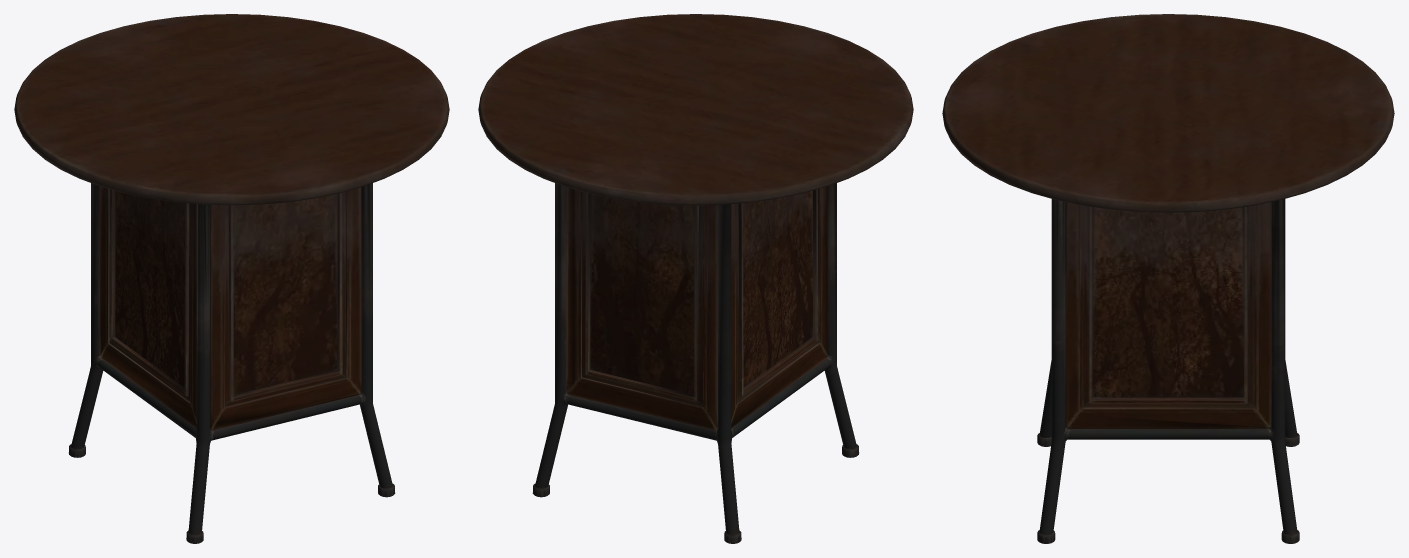
Rendered from round_wooden_table_02.glb.
3 views of the same model, side by side, from view 1: azimuth 30°, elevation 25°; view 2: azimuth 150°, elevation 25°; view 3: azimuth 270°, elevation 25° (orthographic). The views are drawn at different scales.
Parts seen in each view (by area): view 1: round_wooden_table_02; view 2: round_wooden_table_02; view 3: round_wooden_table_02.
Boxes of the visible parts, x1,y1,x2,y2 form: round_wooden_table_02: [14, 14, 449, 543]; round_wooden_table_02: [478, 14, 913, 543]; round_wooden_table_02: [942, 14, 1394, 543].
Bounding box in the file's own units: 0.7962 × 0.7459 × 0.7962.
Materials: 1 (1 with a texture image).
